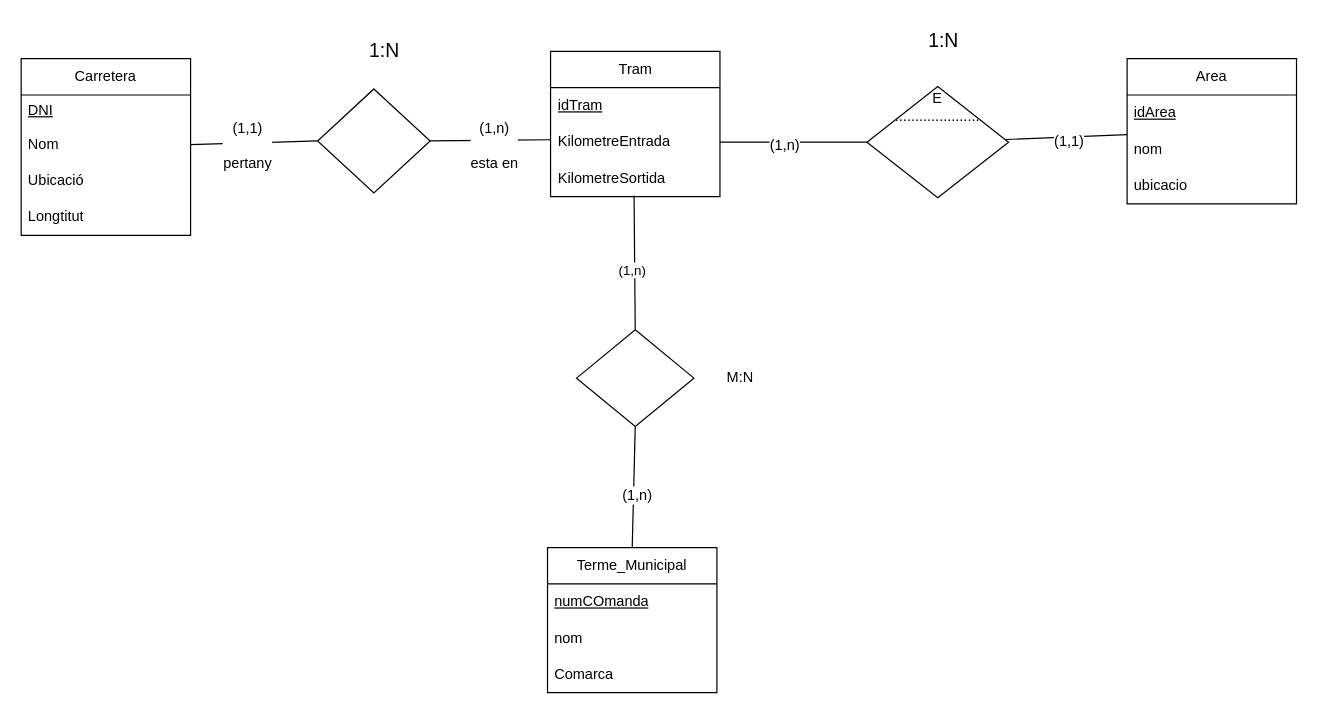
Image size: 1318x714. Some labels were removed from this diagram. The centre of each missing label's shape, as x and y in pixels:
"E ............." belongs at (x=373, y=140).
"TermeTram" belongs at (x=634, y=378).
